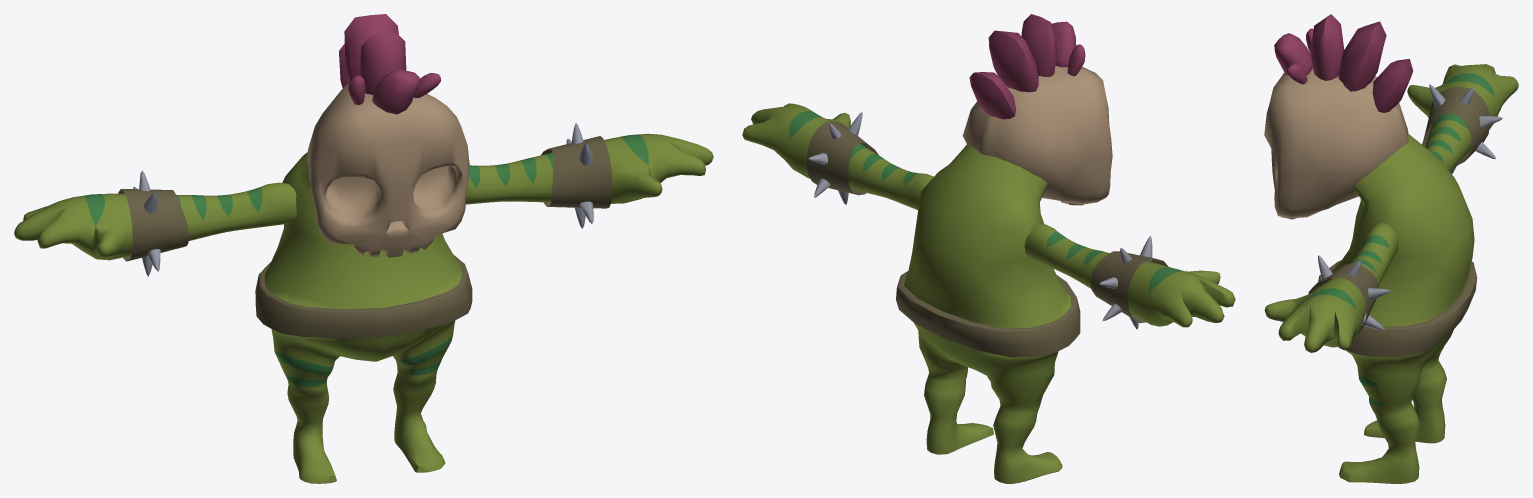
Rendered from Orc_Skull.fbx.
3 views of the same model, side by side, from view 1: azimuth 30°, elevation 25°; view 2: azimuth 150°, elevation 25°; view 3: azimuth 270°, elevation 25° (orthographic). The views are drawn at different scales.
Visible parts, largest first — view 1: Orc_Skull; view 2: Orc_Skull; view 3: Orc_Skull.
Part boxes in pixels (x1,y1,x2,y2): Orc_Skull: (14, 14, 713, 483); Orc_Skull: (742, 14, 1235, 483); Orc_Skull: (1264, 14, 1518, 483).
Size of the model in its own units: 405 by 293 by 157.
